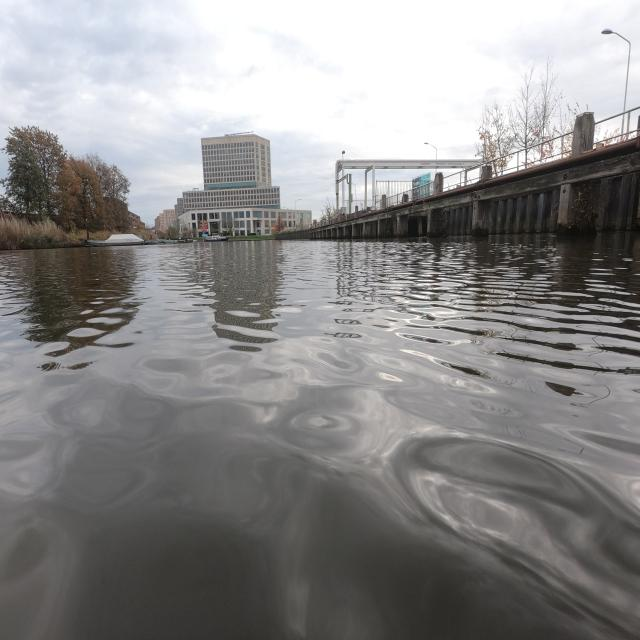boat: (86, 234, 144, 246), (204, 234, 228, 242)
reed: (0, 217, 83, 250)
sky: (12, 4, 628, 208)
tree: (0, 126, 132, 234)
wall: (284, 136, 638, 238)
water: (0, 235, 640, 640)
